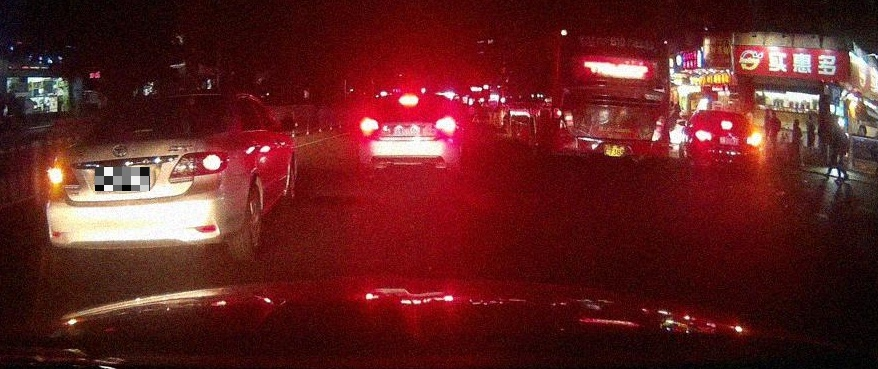L_light: (46, 164, 79, 187), (560, 98, 576, 136), (361, 120, 379, 130), (695, 131, 711, 140)
R_light: (168, 151, 228, 183), (651, 105, 667, 141), (435, 118, 456, 130), (747, 134, 761, 143)
T_light: (606, 73, 631, 79), (145, 101, 169, 106), (400, 97, 418, 103), (721, 121, 733, 125)
night-brake: (359, 93, 458, 172)
night-left: (44, 91, 236, 262)
night-no: (550, 28, 671, 166)
night-right: (691, 108, 761, 166)
plate_1: (95, 167, 150, 191)
